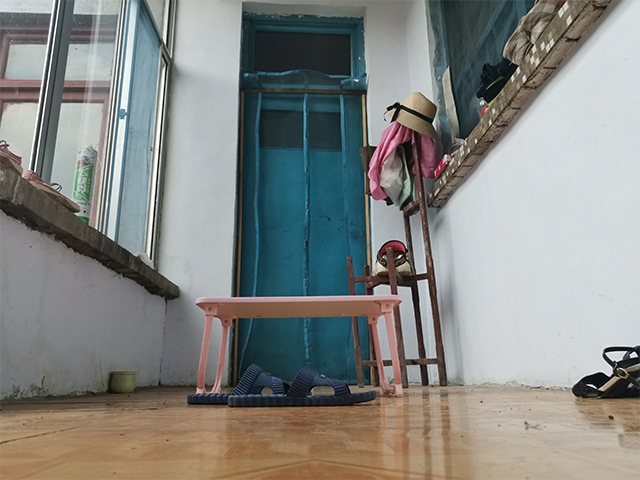slippers: (185, 362, 379, 408)
stool: (194, 292, 407, 399)
